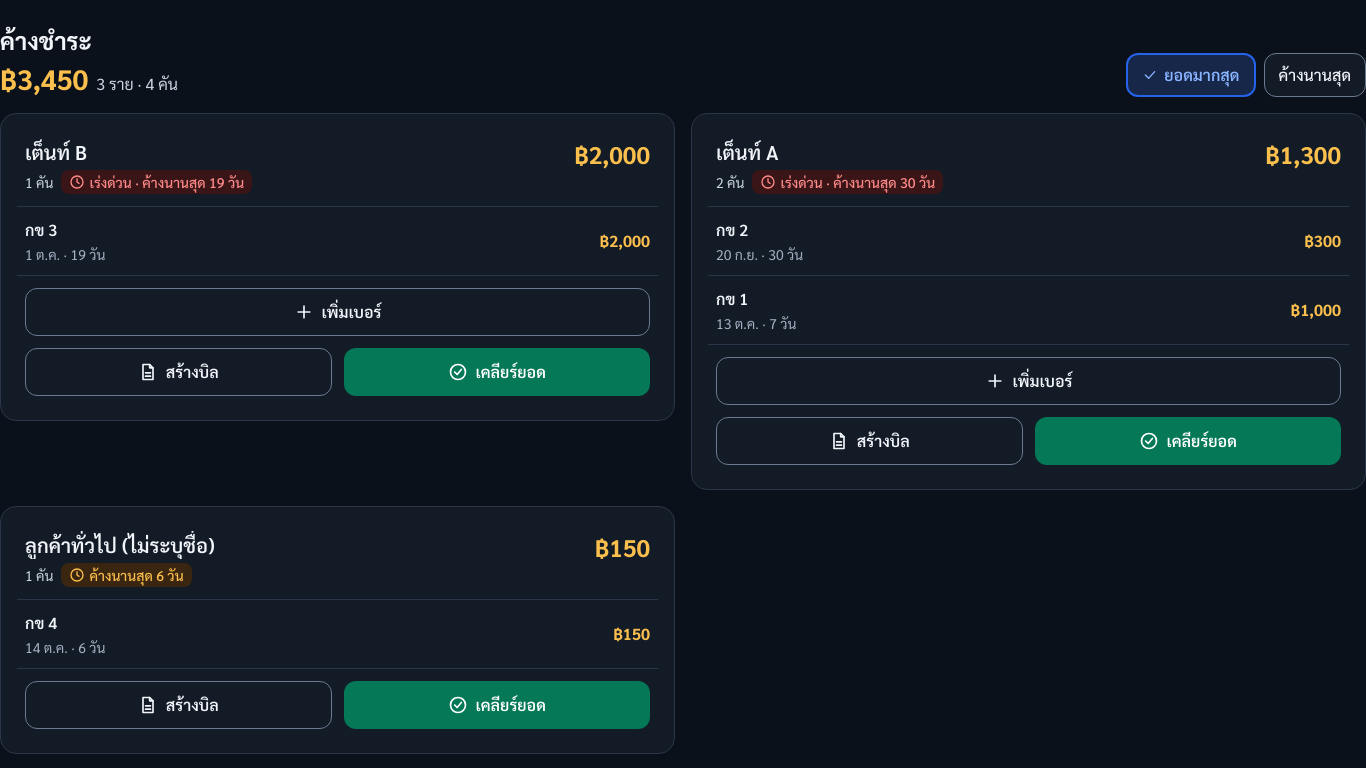
DebtsScreen › opens the new-customer form with the name and plates of the card
Click the button with aria-label "เพิ่มเบอร์ เต็นท์ B".
click(338, 312)  # box top-left (25, 288), bottom-right (650, 336)
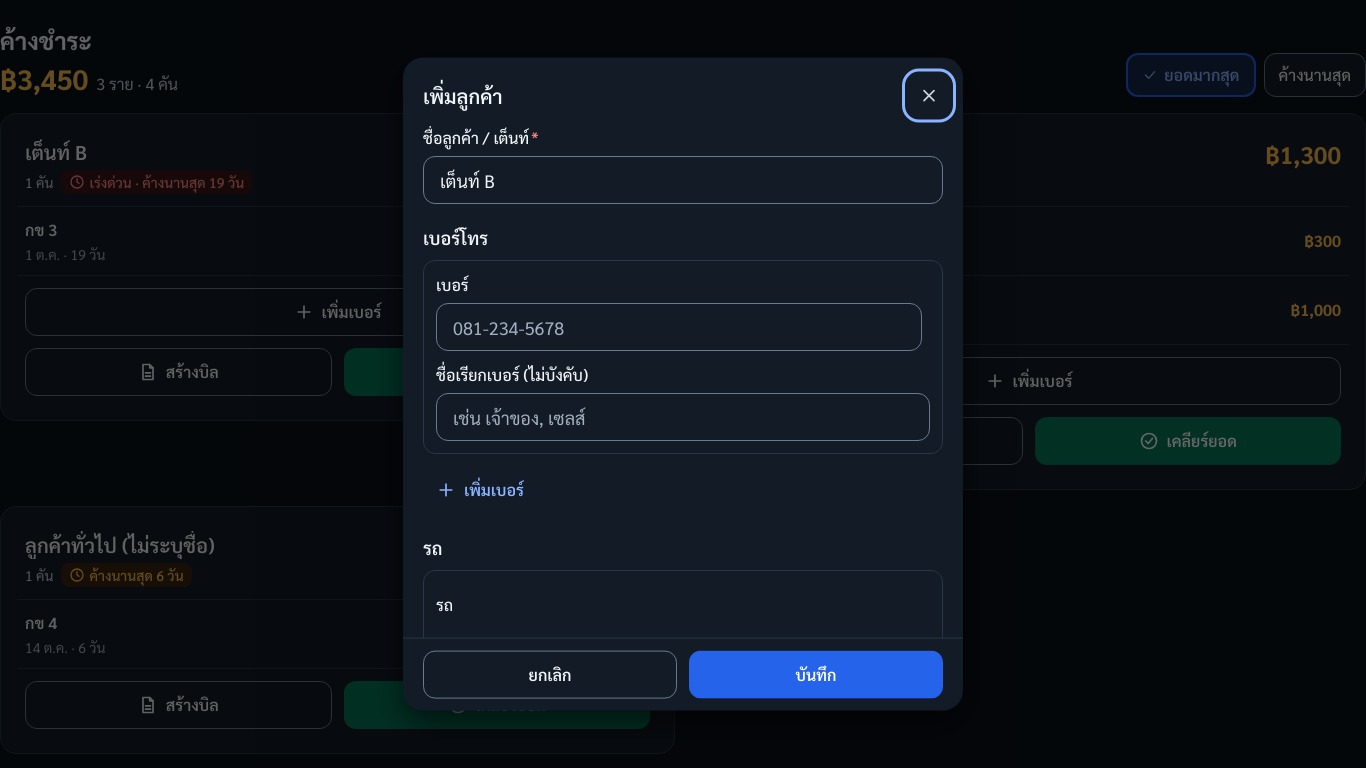
Expected: the field labelled "ชื่อลูกค้า / เต็นท์*" holds "เต็นท์ B", top-left (440, 157), bottom-right (926, 203)
